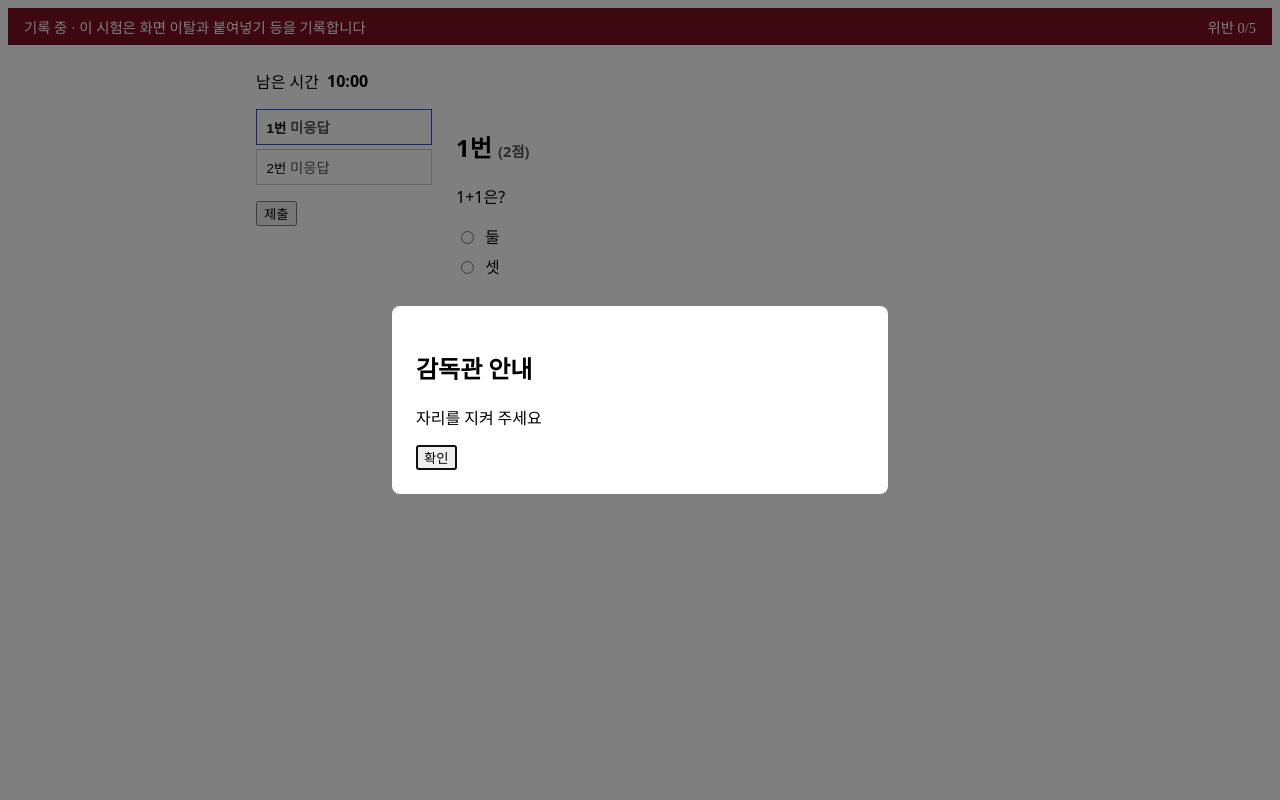
Test case: 감독관 경고 › (d) 대화상자는 [확인]으로만 닫힌다(Esc 불가)
This screenshot has width=1280, height=800.
Check: the text "1+1은?" is shown, box [456,186,505,208]
Check: the dialog shows "자리를 지켜 주세요", box [416,410,542,427]
Press Escape in the dialog, box [392,306,888,494]
Press Escape
Check: the dialog is shown, box [392,306,888,494]
Click the button "확인". click: (436, 457)
box: [416,445,456,470]
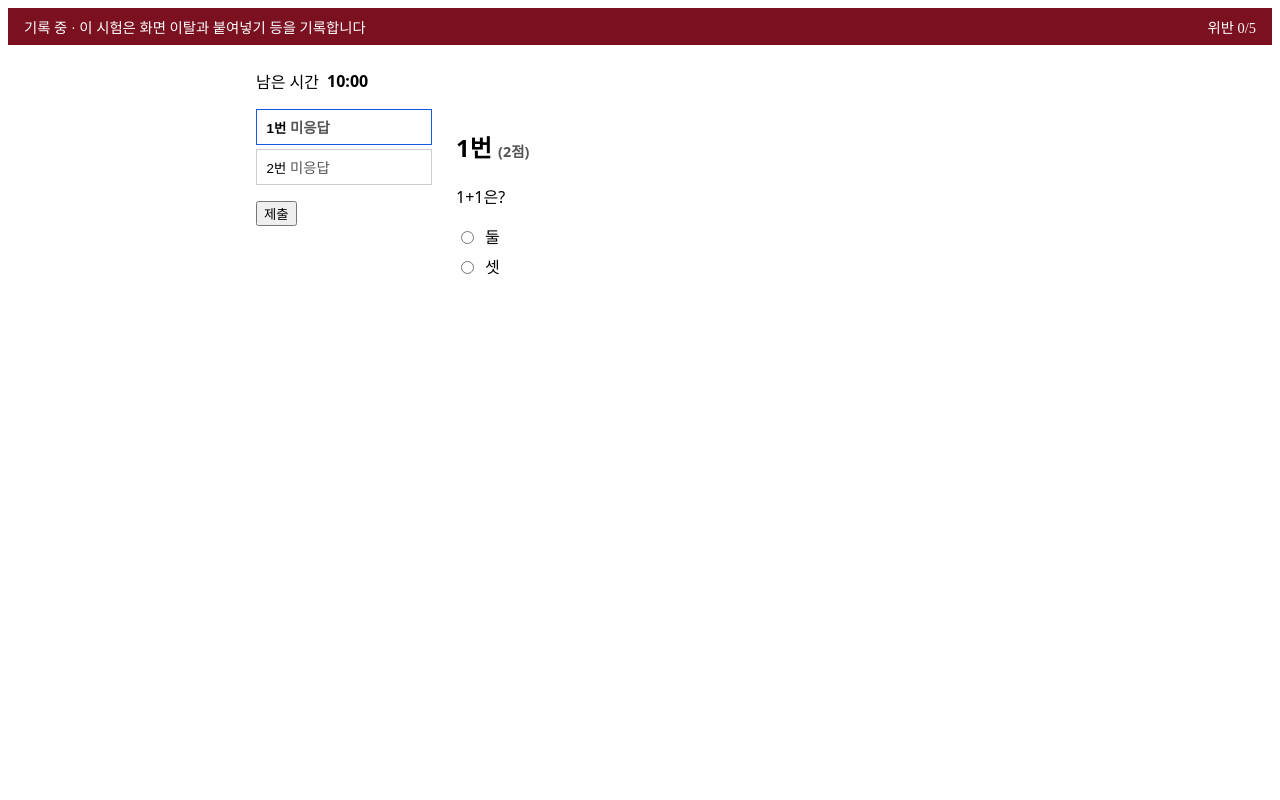
Check: the dialog is gone
